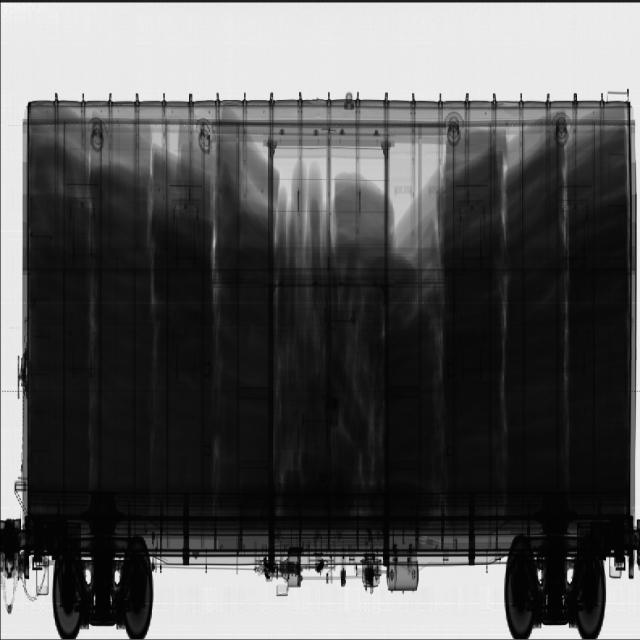fabrics: (30, 108, 628, 502)
